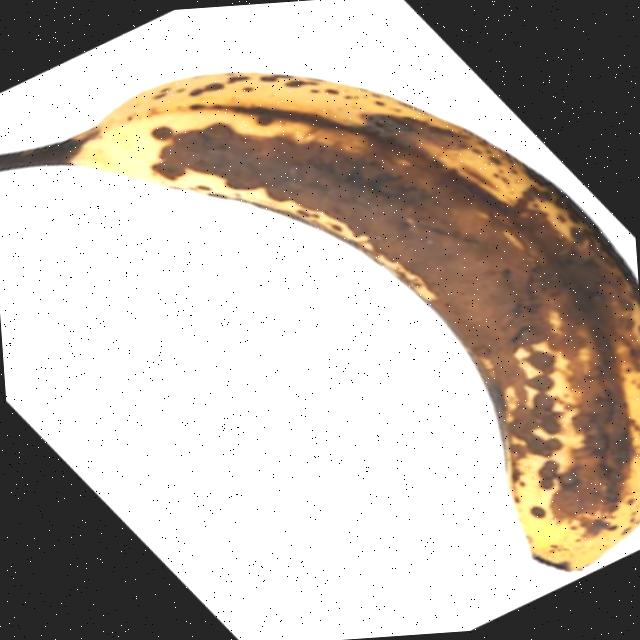overripe: (0, 38, 640, 613)
